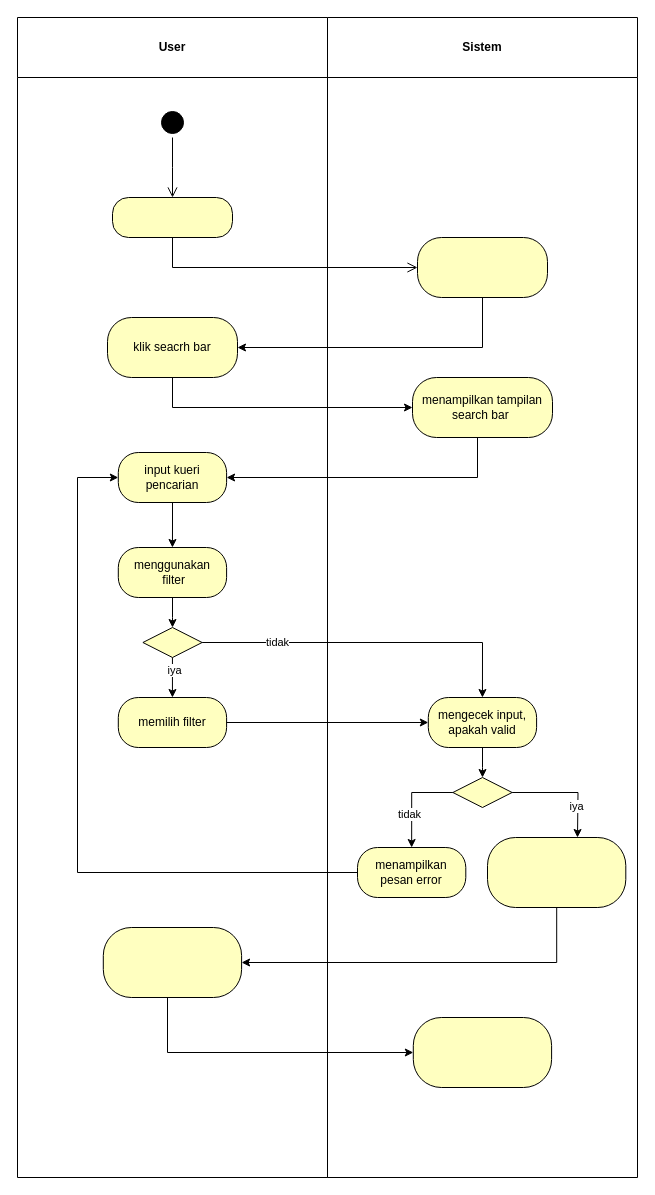
Image size: 655x1195. Some labels were removed from this diagram. The shapes that lost their labels are listed below. From the top down, each one's box as (x1, y1, x2, y2) in pixels, then its label:
(112, 196, 232, 238): masuk ke platform
(416, 236, 548, 298): menampilkan dashboard platform
(486, 836, 626, 908): menampilkan halaman yang berisi hasil pencarian sesuai kueri
(102, 926, 242, 998): memilih projek sesuai yang ada pada tampilan
(412, 1016, 552, 1088): menampilkan tampilan yang berisi dekripsi projek yang di pilih
